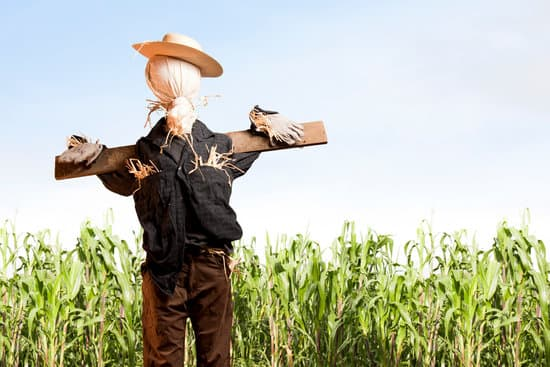person-like: (49, 29, 309, 367)
